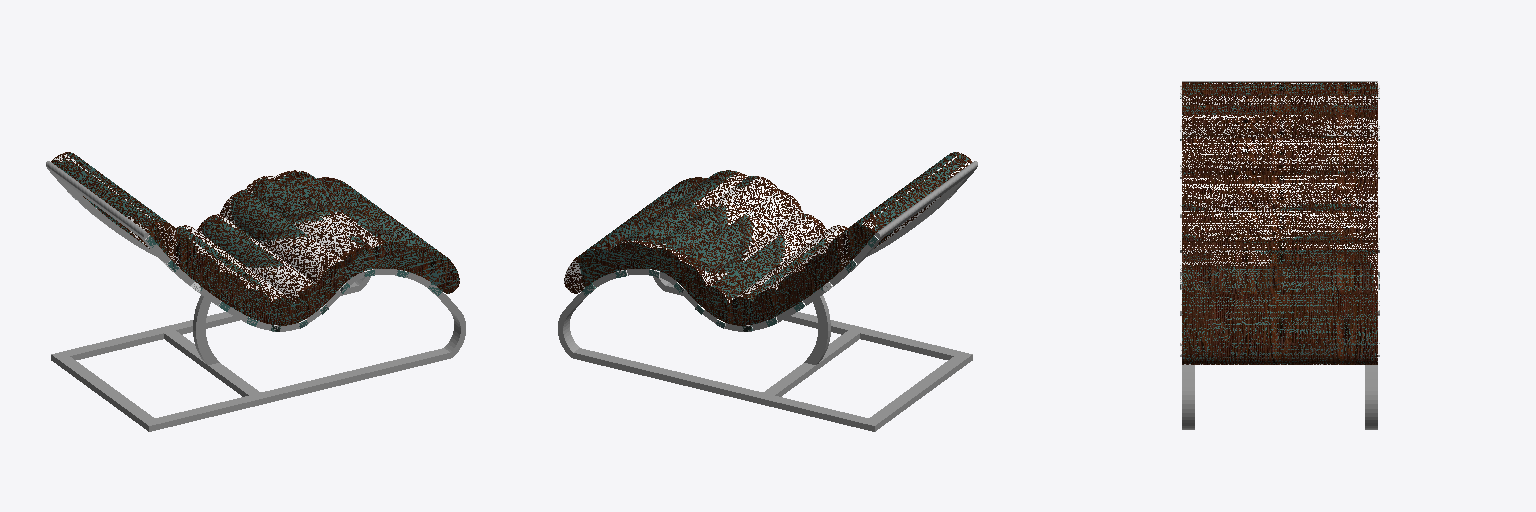
The picture shows the model from 3 angles: view 1: azimuth 30°, elevation 25°; view 2: azimuth 150°, elevation 25°; view 3: azimuth 270°, elevation 25°; orthographic projection.
Parts seen in each view (by area): view 1: mesh1_mesh1-geometry, mesh17.001_mesh17-geometry, mesh2.001_mesh2-geometry; view 2: mesh1_mesh1-geometry, mesh2.001_mesh2-geometry, mesh17.001_mesh17-geometry; view 3: mesh1_mesh1-geometry, mesh17.001_mesh17-geometry, mesh2.001_mesh2-geometry.
Boxes of the visible parts, x1=… form: mesh1_mesh1-geometry: x1=51, y1=152, x2=459, y2=325; mesh17.001_mesh17-geometry: x1=95, y1=197, x2=465, y2=431; mesh2.001_mesh2-geometry: x1=46, y1=161, x2=370, y2=395; mesh1_mesh1-geometry: x1=564, y1=152, x2=972, y2=325; mesh2.001_mesh2-geometry: x1=558, y1=197, x2=928, y2=431; mesh17.001_mesh17-geometry: x1=653, y1=161, x2=977, y2=395; mesh1_mesh1-geometry: x1=1182, y1=82, x2=1377, y2=364; mesh17.001_mesh17-geometry: x1=1180, y1=81, x2=1279, y2=429; mesh2.001_mesh2-geometry: x1=1280, y1=81, x2=1379, y2=429.
Bounding box in the file's own units: 0.7777 × 0.4707 × 0.4166.
4 materials, 2 textured.